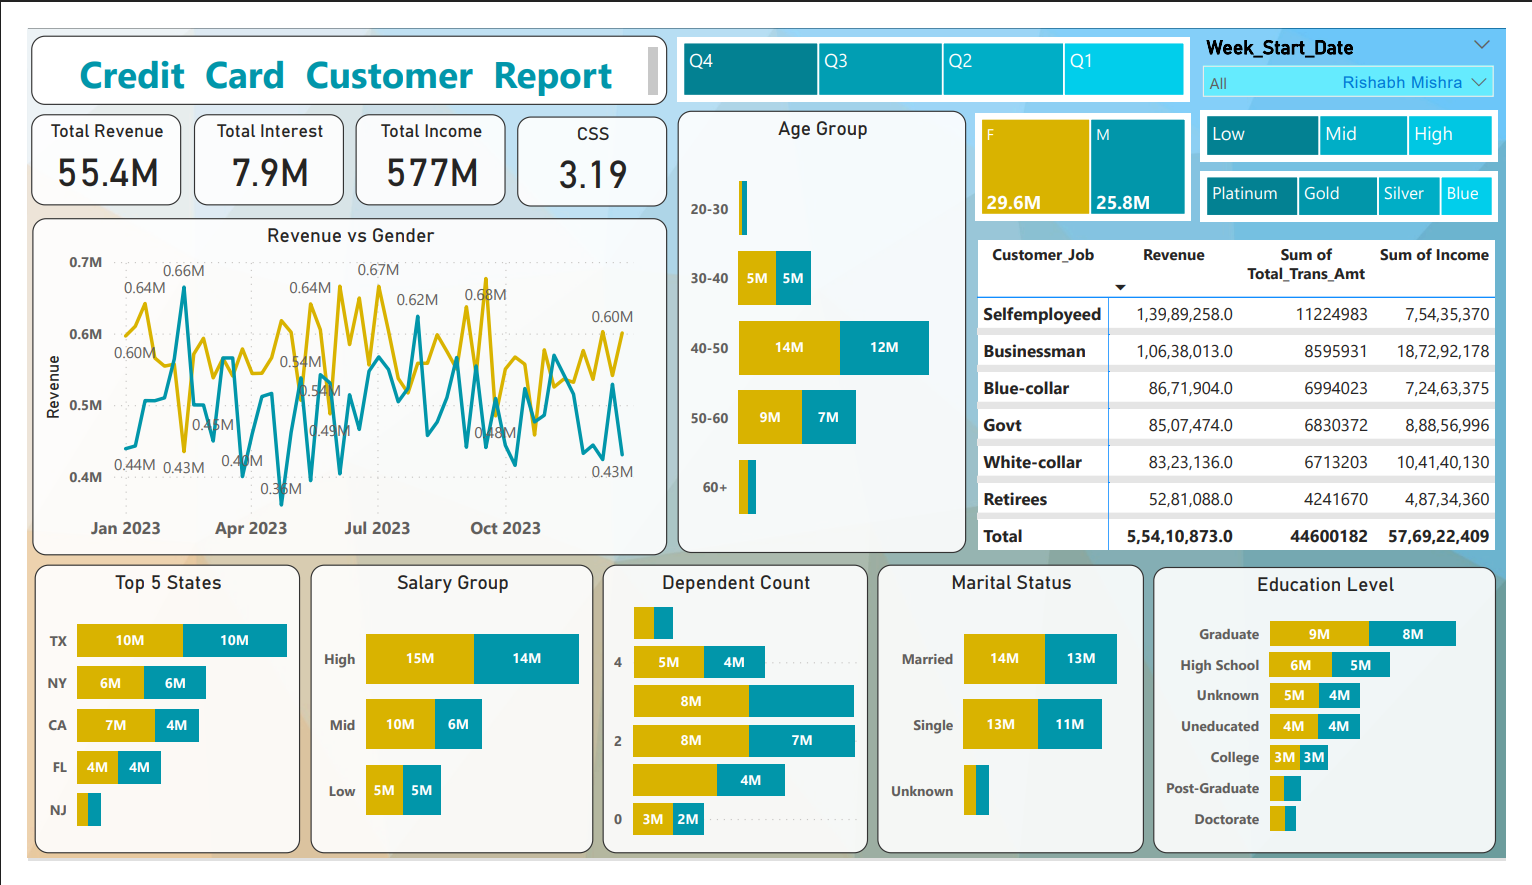

Layout of this report page (visuals, bound fields, positions):
{"tool":"powerbi","page":{"name":"Credit Card Customer Report","canvas":[1280,720],"ordinal":2},"visuals":[{"type":"shape","box":[0,14,717.4,90.7],"z":0},{"type":"barChart","title":"Revenue by IncomeGroup","fields":{"Y":["credit_card.Revenue"],"Category":["customer.IncomeGroup"],"Series":["customer.Gender"]},"box":[655.8,491.5,289.8,213.6],"z":1000},{"type":"tableEx","fields":{"Values":["customer.Customer_Job","credit_card.Revenue","customer.Income"]},"box":[896.5,210.5,375.6,258.1],"z":2000},{"type":"card","title":"Revenue","fields":{"Values":["credit_card.Revenue"]},"box":[11.6,104.7,116.3,81.4],"z":3000},{"type":"card","title":"Income","fields":{"Values":["customer.Income"]},"box":[277.9,104.7,117.4,81.4],"z":4000},{"type":"card","title":"CSS Rating","fields":{"Values":["customer.Cust_Satisfaction_Score"]},"box":[405.8,104.7,117.4,81.4],"z":5000},{"type":"card","title":"Intrest","fields":{"Values":["credit_card.Interest_Earned"]},"box":[143,104.7,118.6,81.4],"z":6000},{"type":"slicer","fields":{"Values":["credit_card.Week_Start_Date"]},"box":[750,104.7,209.3,84.9],"z":7000},{"type":"treemap","fields":{"Group":["credit_card.Qtr"],"Values":["credit_card.Client_Num"]},"box":[1077.1,22.4,195.7,67.2],"z":8000},{"type":"treemap","fields":{"Group":["credit_card.Card_Category"],"Values":["credit_card.Client_Num"]},"box":[750,22.4,316.7,67.2],"z":9000},{"type":"lineChart","title":"Revenue by week","fields":{"Y":["credit_card.Revenue"],"Category":["credit_card.Week_Start_Date.Variation.Date Hierarchy.Year","credit_card.Week_Start_Date.Variation.Date Hierarchy.Month","credit_card.Week_Start_Date.Variation.Date Hierarchy.Day"],"Series":["customer.Gender"]},"box":[357.1,210.6,516.9,258.5],"z":10000},{"type":"treemap","fields":{"Group":["customer.Gender"],"Values":["credit_card.Revenue"]},"box":[544.2,104.7,173.3,81.4],"z":11000},{"type":"barChart","title":"Revenue by AgeGroup","fields":{"Y":["credit_card.Revenue"],"Category":["customer.AgeGroup"],"Series":["customer.Gender"]},"box":[11.6,210.5,324.4,258.1],"z":12000},{"type":"barChart","title":"Top 5 State","fields":{"Y":["credit_card.Revenue"],"Category":["customer.state_cd"],"Series":["customer.Gender"]},"box":[11.6,491.9,312.8,212.8],"z":13000},{"type":"barChart","title":"Dependent Count","fields":{"Y":["credit_card.Revenue"],"Category":["customer.Dependent_Count"],"Series":["customer.Gender"]},"box":[969.8,491.9,302.3,212.8],"z":14000},{"type":"barChart","title":"Revenue by Marital Status","fields":{"Y":["credit_card.Revenue"],"Category":["customer.Marital_Status"],"Series":["customer.Gender"]},"box":[340.6,491.5,289.8,213.6],"z":15000},{"type":"treemap","fields":{"Group":["credit_card.Use_Chip"],"Values":["credit_card.Client_Num"]},"box":[969.8,104.7,303.5,84.9],"z":16000}]}

Visuals, with their boxes in screenshot pixels (x1, y1, x2, y2), scaled from the page's 1280x720 canvas onto the 1532x885 screenshot:
shape: detection(0, 17, 859, 129)
"Revenue by IncomeGroup" barChart: detection(785, 604, 1132, 867)
tableEx - customer.Customer_Job x credit_card.Revenue: detection(1073, 259, 1523, 576)
"Revenue" card: detection(14, 129, 153, 229)
"Income" card: detection(333, 129, 473, 229)
"CSS Rating" card: detection(486, 129, 626, 229)
"Intrest" card: detection(171, 129, 313, 229)
slicer - credit_card.Week_Start_Date: detection(898, 129, 1148, 233)
treemap - credit_card.Qtr x credit_card.Client_Num: detection(1289, 28, 1523, 110)
treemap - credit_card.Card_Category x credit_card.Client_Num: detection(898, 28, 1277, 110)
"Revenue by week" lineChart: detection(427, 259, 1046, 577)
treemap - customer.Gender x credit_card.Revenue: detection(651, 129, 859, 229)
"Revenue by AgeGroup" barChart: detection(14, 259, 402, 576)
"Top 5 State" barChart: detection(14, 605, 388, 866)
"Dependent Count" barChart: detection(1161, 605, 1523, 866)
"Revenue by Marital Status" barChart: detection(408, 604, 755, 867)
treemap - credit_card.Use_Chip x credit_card.Client_Num: detection(1161, 129, 1524, 233)
